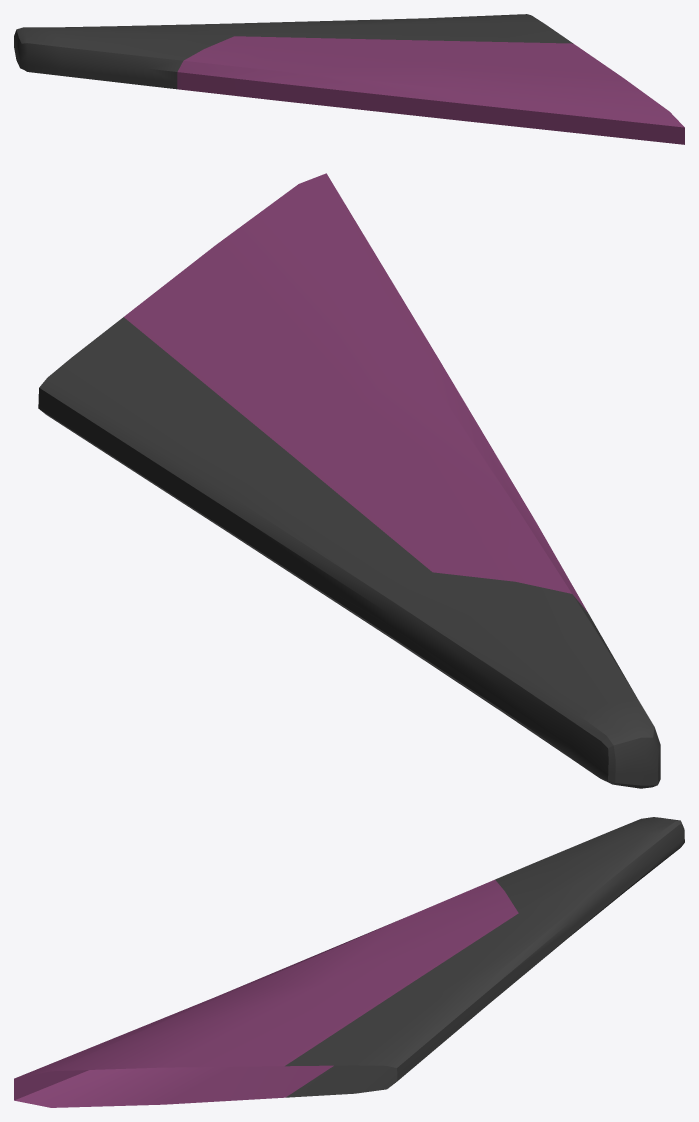
File: WingShip2.fbx
The picture shows the model from 3 angles, top to bottom: view 1: azimuth 30°, elevation 25°; view 2: azimuth 150°, elevation 25°; view 3: azimuth 270°, elevation 25°; orthographic projection. The views are drawn at different scales.
Parts seen in each view (by area): view 1: Spaceship_FernandoTheFlamingo.002; view 2: Spaceship_FernandoTheFlamingo.002; view 3: Spaceship_FernandoTheFlamingo.002.
Boxes of the visible parts, bbox=[...] form: Spaceship_FernandoTheFlamingo.002: bbox=[14, 14, 684, 144]; Spaceship_FernandoTheFlamingo.002: bbox=[38, 173, 660, 788]; Spaceship_FernandoTheFlamingo.002: bbox=[14, 817, 684, 1107].
Bounding box in the file's own units: 302 × 22.32 × 332.
1 material, 1 textured.
